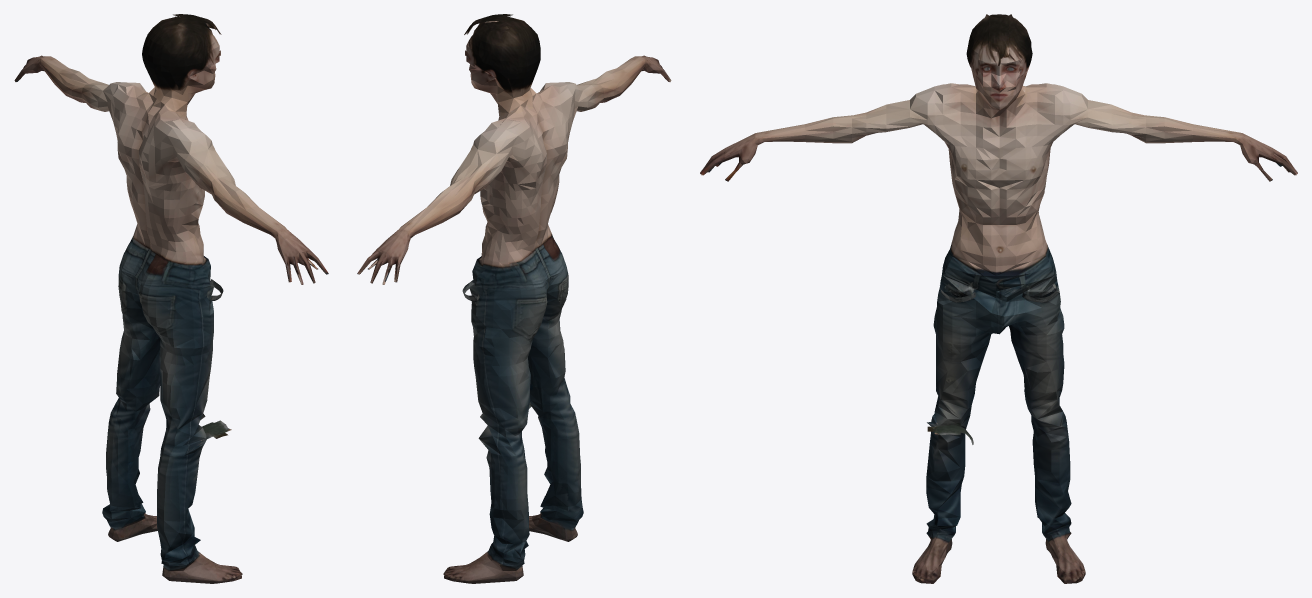
The model's file is Henry_Test_player.glb.
3 views of the same model, side by side, from view 1: azimuth 30°, elevation 25°; view 2: azimuth 150°, elevation 25°; view 3: azimuth 270°, elevation 25° (orthographic). The views are drawn at different scales.
Parts seen in each view (by area): view 1: tripo_node_755b9504-b9e9-49e2-a08c-a43681c9d097; view 2: tripo_node_755b9504-b9e9-49e2-a08c-a43681c9d097; view 3: tripo_node_755b9504-b9e9-49e2-a08c-a43681c9d097.
Part boxes in pixels (bbox=[...]): tripo_node_755b9504-b9e9-49e2-a08c-a43681c9d097: bbox=[14, 14, 328, 583]; tripo_node_755b9504-b9e9-49e2-a08c-a43681c9d097: bbox=[357, 14, 671, 583]; tripo_node_755b9504-b9e9-49e2-a08c-a43681c9d097: bbox=[700, 14, 1297, 583].
Size of the model in its own units: 0.1773 by 1 by 0.9769.
Materials: 1 (1 with a texture image).
